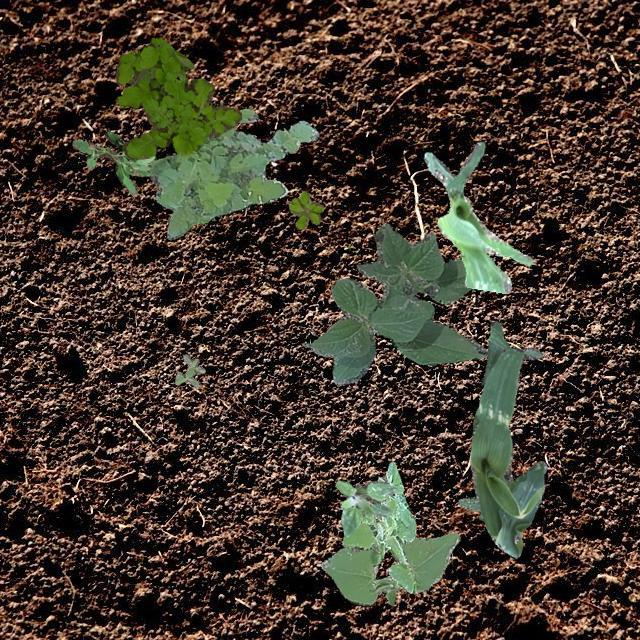crop: (302, 222, 484, 384), (470, 319, 546, 556), (422, 140, 534, 292), (320, 530, 460, 604)
weed: (148, 108, 318, 238), (114, 36, 240, 158), (340, 461, 416, 592), (72, 130, 154, 194), (334, 478, 400, 536), (288, 190, 322, 228), (173, 353, 204, 388), (458, 496, 478, 510), (350, 546, 362, 552)
